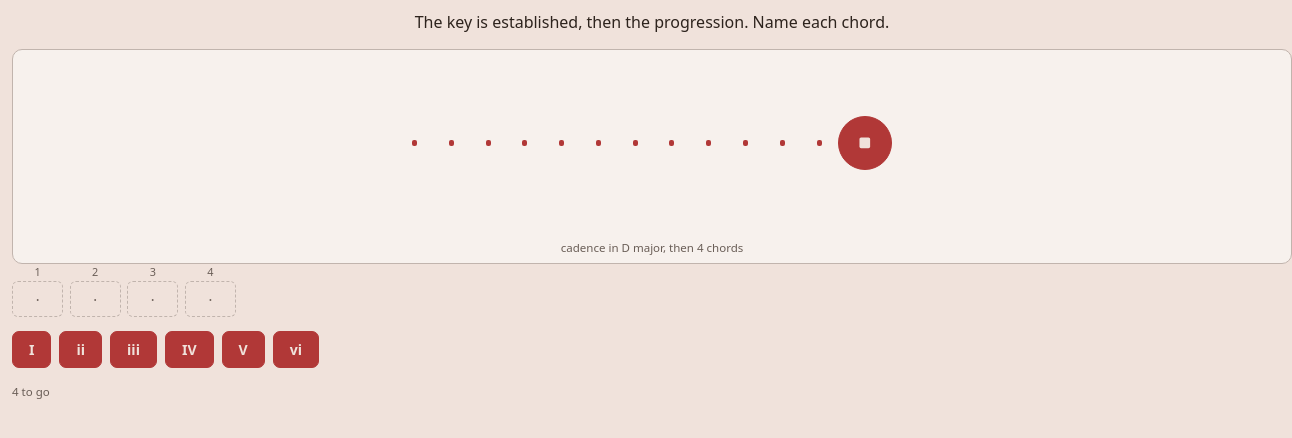
Test: filling the slots › counts down what is left, and only offers Check when nothing is
Expected: the text with class "secondary" reads "4 to go", [12, 384, 50, 399]
Click the button "ii" at [81, 350], box [60, 331, 102, 368]
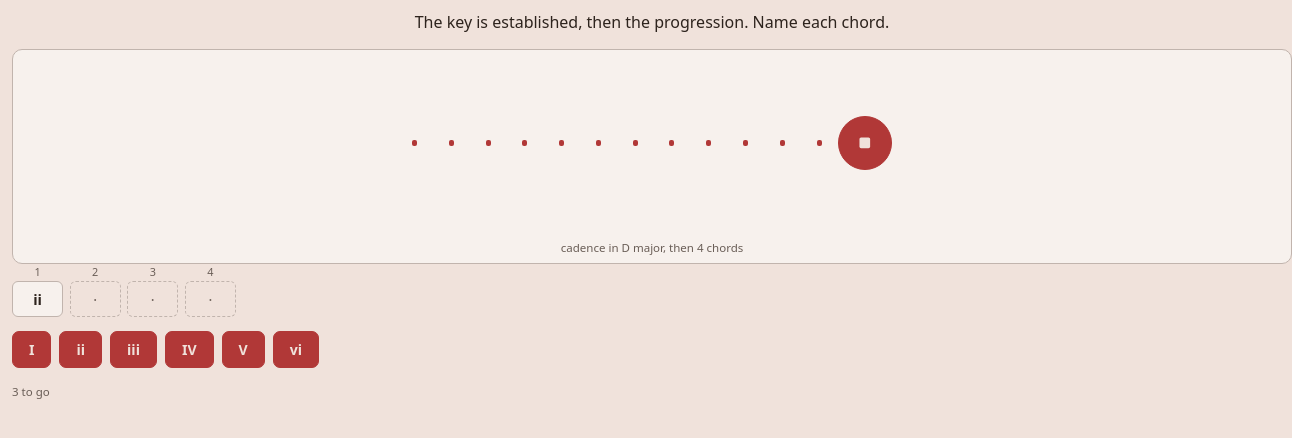
Click the button "V" at [243, 350], box [222, 331, 265, 368]
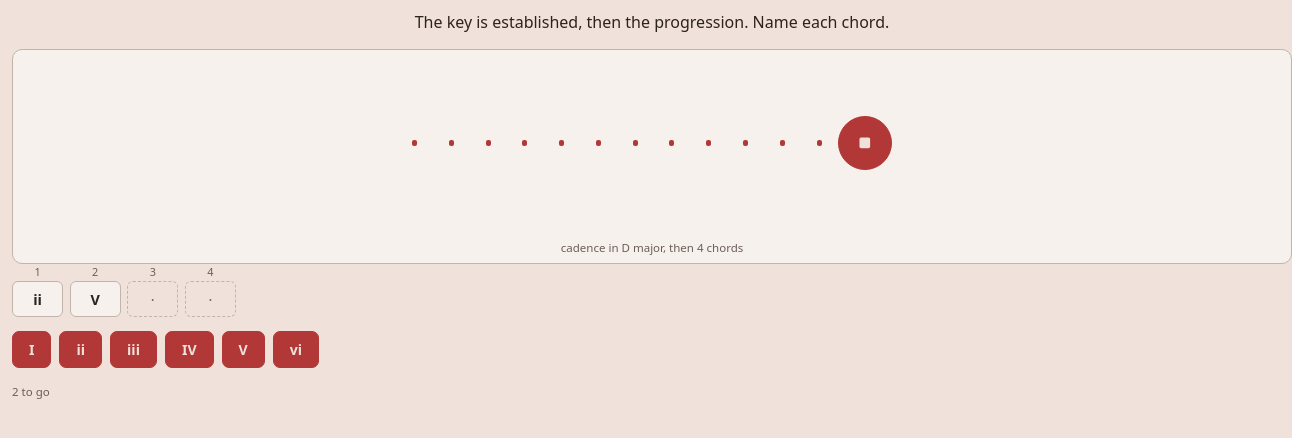
Click the 2nd button "V" at [243, 350], box [222, 331, 265, 368]
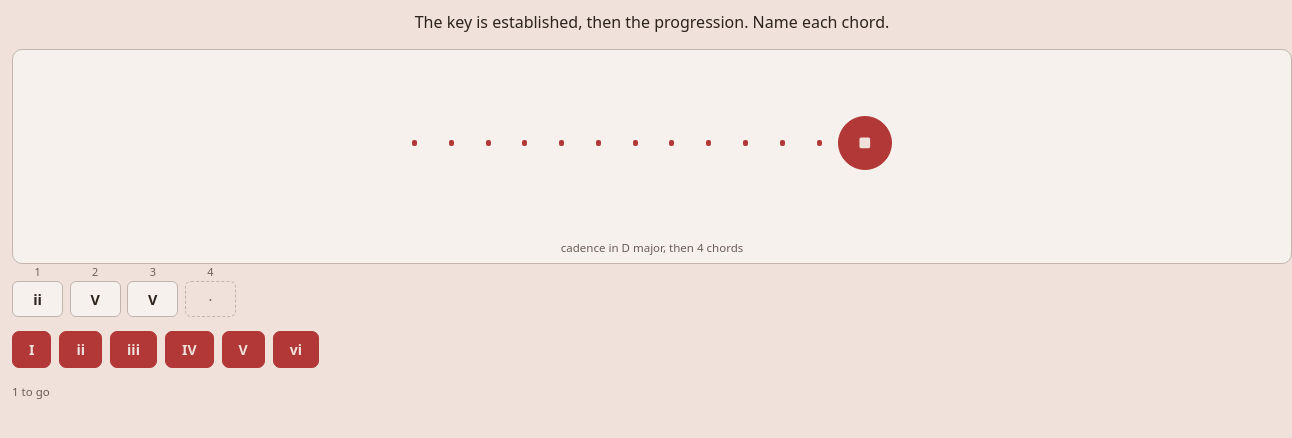
Click the button "I" at [32, 350], box [12, 331, 52, 368]
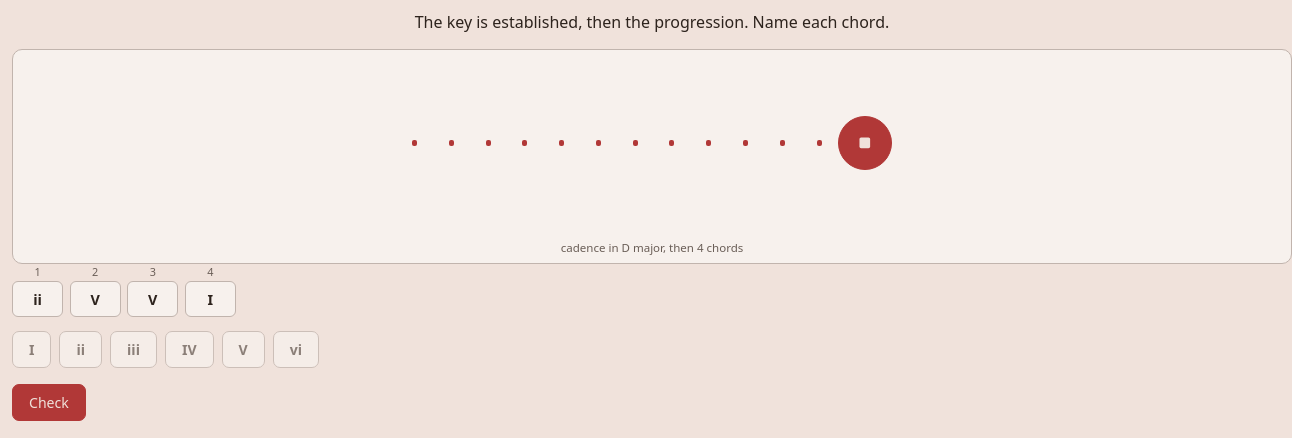
Expected: the button "Check" is enabled, [12, 384, 86, 421]
